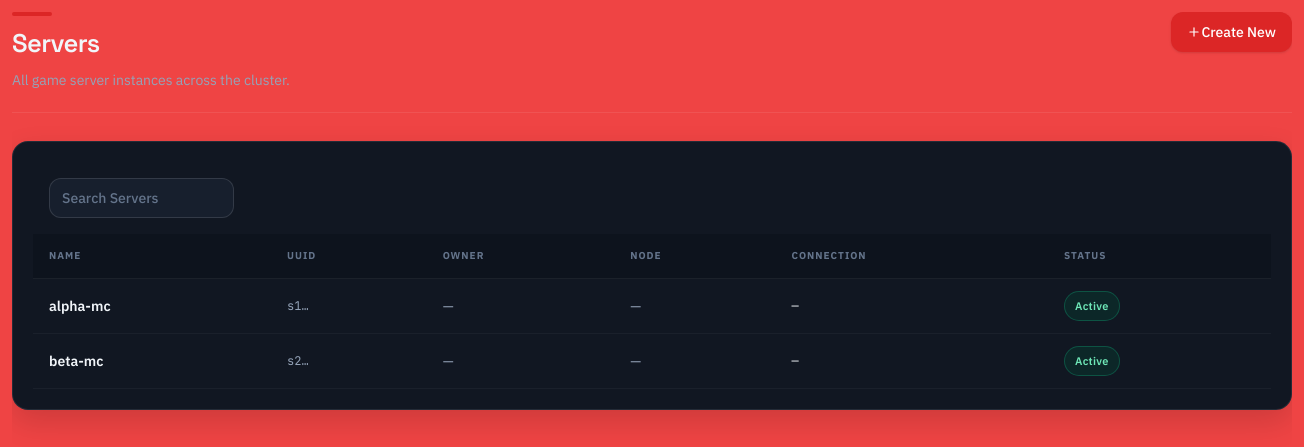
Scenario: AdminServers page › filters servers by search query
The width and height of the screenshot is (1304, 447).
Check: the button "alpha-mc" is shown, box left=49, top=296, right=111, bottom=316
In the field with placeholder "Search Servers": {"x": 142, "y": 198} left=49, top=178, right=234, bottom=218, type "beta"
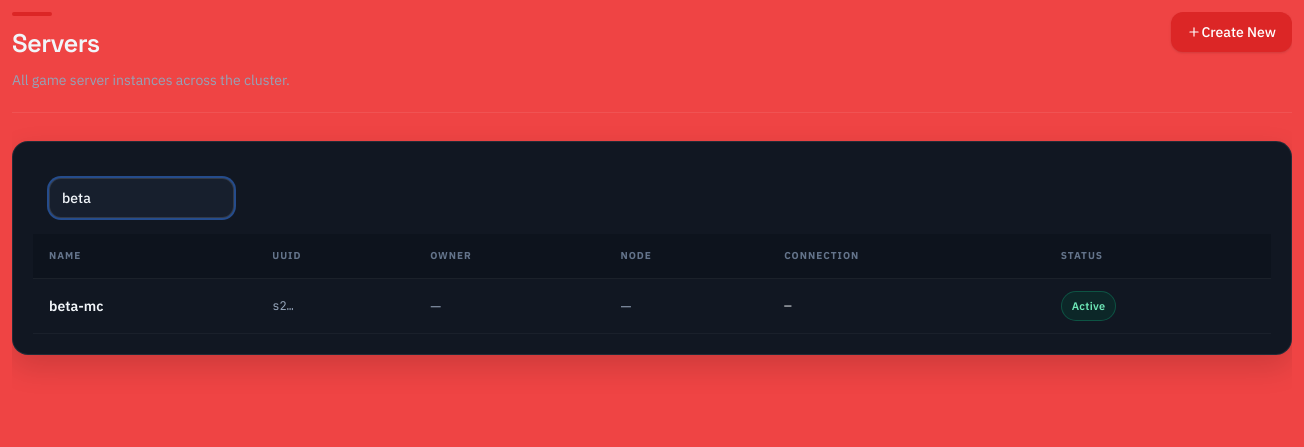
Check: the button "beta-mc" is shown, box left=49, top=296, right=104, bottom=316
Check: the button "alpha-mc" is gone
